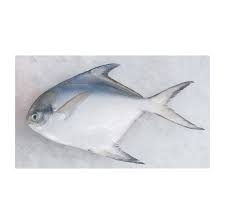Ikan Bawal: (20, 59, 208, 167)
